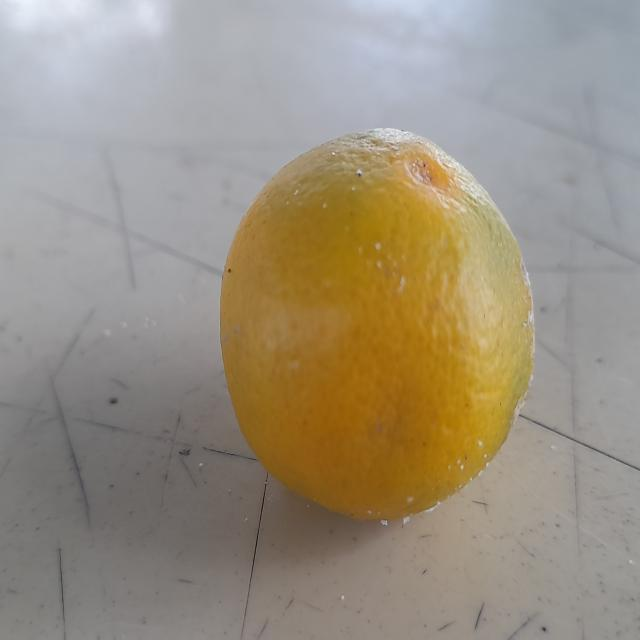greening: (208, 128, 538, 555)
